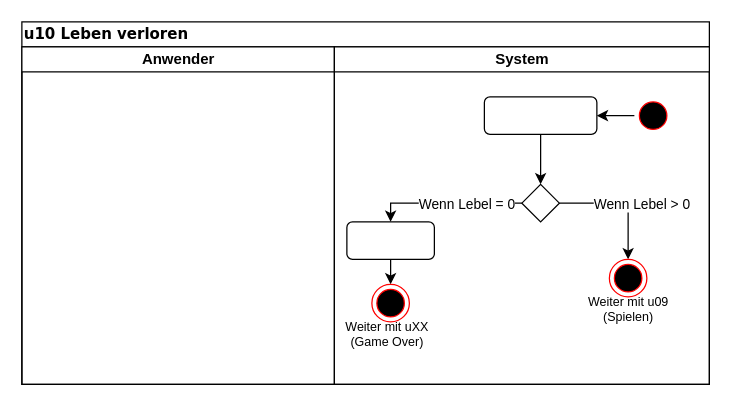
The diagram is 731 pixels wide and 406 high, and some of its shapes have lost their labels. The shapes that lost their labels are listed below. From the top down, each one's centre as x and y in pixels, then its label:
At pixel 540 115: "leben verringern".
At pixel 390 240: "Game Over".
